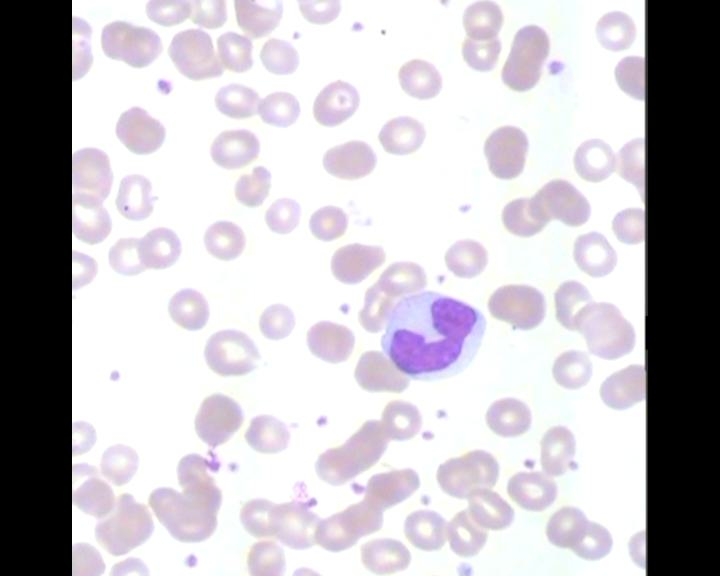mono: (379, 289, 491, 382)
